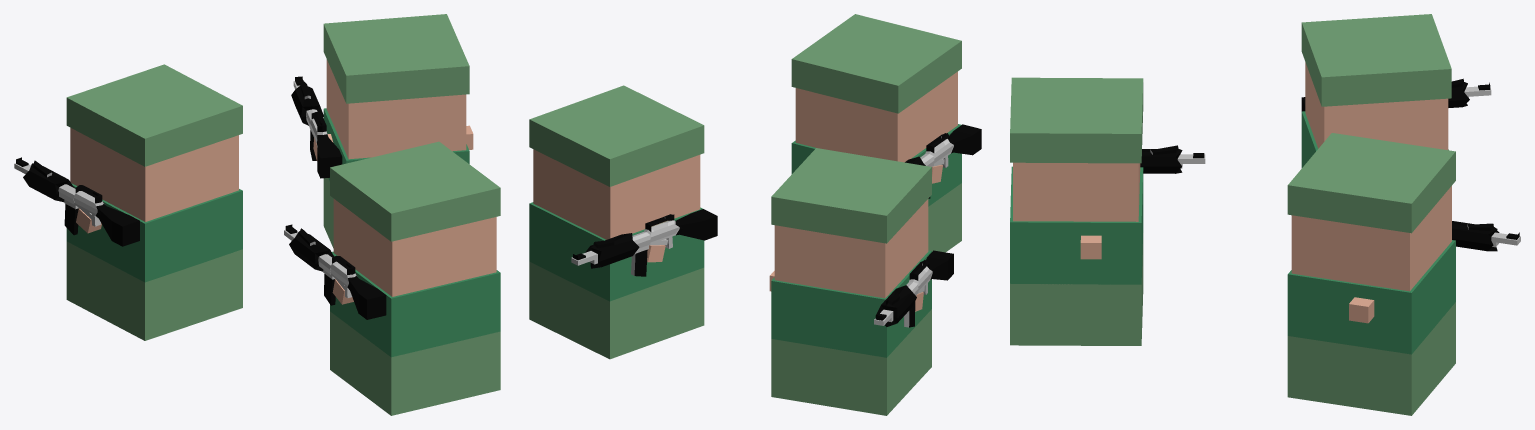
Rendered from greinRiflemen.gltf.
3 renders of one model, left to right at view 1: azimuth 30°, elevation 25°; view 2: azimuth 150°, elevation 25°; view 3: azimuth 270°, elevation 25°, orthographic. The views are drawn at different scales.
Parts seen in each view (by area): view 1: Cube.010, Cube.017, Cube.003, Cube.012, Cube.015, Cube.011, Cube.016, Cube.014, Cube.013, Cube.002, Cube.009, Cube.018 (+3 smaller); view 2: Cube.003, Cube.017, Cube.010, Cube.001, Cube.012, Cube.002, Cube.016, Cube.011, Cube.013, Cube, Cube.004, Cube.009 (+3 smaller); view 3: Cube.003, Cube.010, Cube.017, Cube.001, Cube, Cube.002, Cube.014, Cube.015, Cube.016, Cube.011, Cube.004, Cube.018 (+4 smaller).
Boxes of the visible parts, <box> form: Cube.010: <box>66,64,242,166</box>; Cube.017: <box>330,141,500,241</box>; Cube.003: <box>323,14,469,103</box>; Cube.012: <box>66,241,242,340</box>; Cube.015: <box>330,311,500,415</box>; Cube.011: <box>70,128,238,221</box>; Cube.016: <box>333,199,496,296</box>; Cube.014: <box>330,251,500,357</box>; Cube.013: <box>66,183,242,282</box>; Cube.002: <box>326,59,466,159</box>; Cube.009: <box>14,157,139,246</box>; Cube.018: <box>284,224,386,319</box>; Cube.003: <box>529,85,704,186</box>; Cube.017: <box>791,14,961,113</box>; Cube.010: <box>771,148,931,243</box>; Cube.001: <box>529,261,704,359</box>; Cube.012: <box>771,309,931,415</box>; Cube.002: <box>533,149,700,239</box>; Cube.016: <box>795,71,957,162</box>; Cube.011: <box>774,199,928,298</box>; Cube.013: <box>771,250,931,357</box>; Cube: <box>529,202,704,301</box>; Cube.004: <box>571,209,717,276</box>; Cube.009: <box>874,250,953,327</box>; Cube.003: <box>1287,133,1455,233</box>; Cube.010: <box>1301,14,1451,106</box>; Cube.017: <box>1010,77,1143,163</box>; Cube.001: <box>1287,302,1455,415</box>; Cube: <box>1287,240,1455,354</box>; Cube.002: <box>1291,186,1451,291</box>; Cube.014: <box>1010,166,1143,284</box>; Cube.015: <box>1010,233,1143,345</box>; Cube.016: <box>1013,162,1140,221</box>; Cube.011: <box>1305,62,1448,150</box>; Cube.004: <box>1452,221,1520,251</box>; Cube.018: <box>1140,145,1205,173</box>.
Size of the model in its own units: 3.37 by 1.63 by 3.55.
